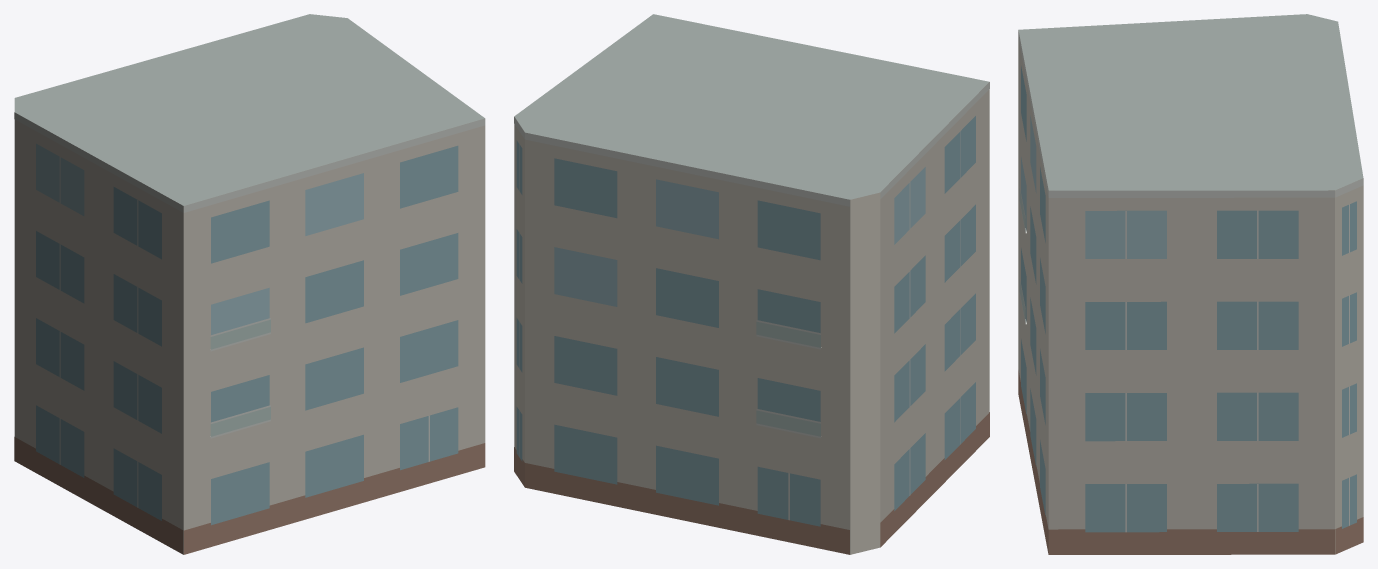
Rendered from survey-upis-32605311.glb.
3 views of the same model, side by side, from view 1: azimuth 30°, elevation 25°; view 2: azimuth 150°, elevation 25°; view 3: azimuth 270°, elevation 25° (orthographic). The views are drawn at different scales.
Visible parts, largest first — view 1: survey-upis-32605311.tmp; view 2: survey-upis-32605311.tmp; view 3: survey-upis-32605311.tmp.
Part boxes in pixels (x1=…): survey-upis-32605311.tmp: x1=14, y1=14, x2=485, y2=554; survey-upis-32605311.tmp: x1=514, y1=14, x2=989, y2=554; survey-upis-32605311.tmp: x1=1018, y1=14, x2=1363, y2=554.
Size of the model in its own units: 12.7 by 12.2 by 10.49.
